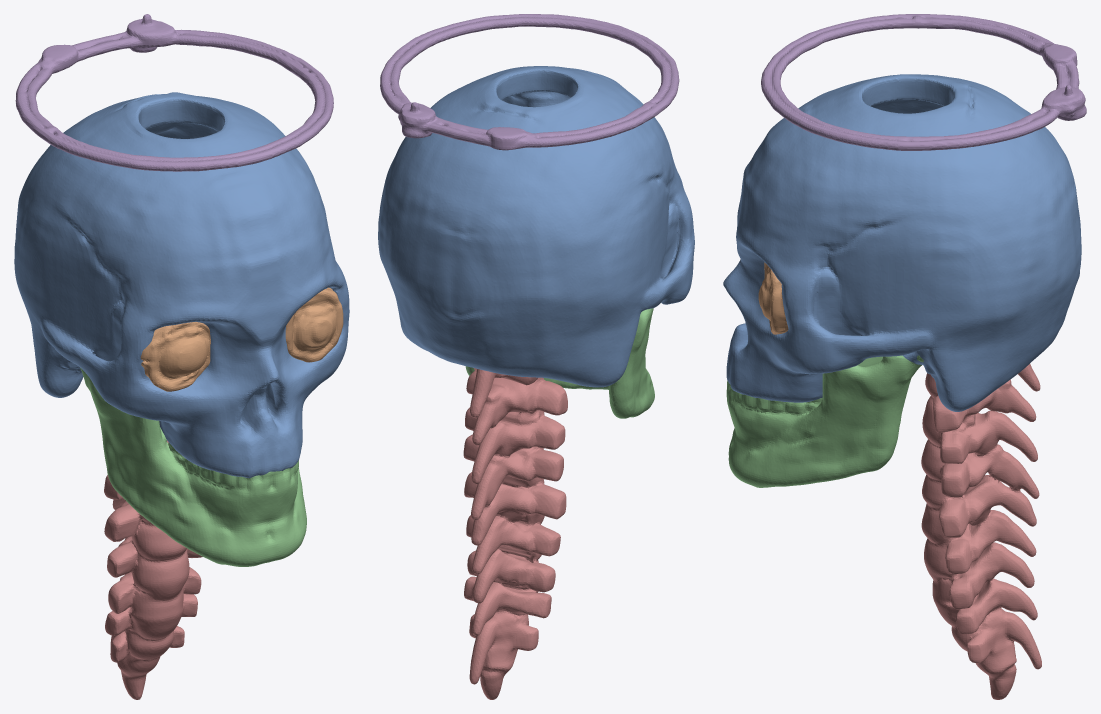
Rendered from skull_drone_1.glb.
The picture shows the model from 3 angles, left to right: view 1: azimuth 30°, elevation 25°; view 2: azimuth 150°, elevation 25°; view 3: azimuth 270°, elevation 25°; orthographic projection. The views are drawn at different scales.
Visible parts, largest first — view 1: Bone_Cranium, Anti-Grav_Jaw, Sensor_Halo, Vertebrae_Tail, Camera_Eye_Sockets; view 2: Bone_Cranium, Vertebrae_Tail, Sensor_Halo, Anti-Grav_Jaw; view 3: Bone_Cranium, Vertebrae_Tail, Anti-Grav_Jaw, Sensor_Halo, Camera_Eye_Sockets.
Boxes of the visible parts, bbox=[...] form: Bone_Cranium: bbox=[14, 92, 349, 478]; Anti-Grav_Jaw: bbox=[80, 367, 306, 566]; Sensor_Halo: bbox=[15, 14, 333, 171]; Vertebrae_Tail: bbox=[104, 440, 202, 699]; Camera_Eye_Sockets: bbox=[140, 287, 343, 391]; Bone_Cranium: bbox=[378, 66, 694, 387]; Vertebrae_Tail: bbox=[463, 368, 567, 699]; Sensor_Halo: bbox=[380, 14, 679, 150]; Anti-Grav_Jaw: bbox=[465, 308, 654, 418]; Bone_Cranium: bbox=[723, 74, 1081, 411]; Vertebrae_Tail: bbox=[921, 364, 1041, 699]; Anti-Grav_Jaw: bbox=[726, 355, 923, 487]; Sensor_Halo: bbox=[761, 14, 1086, 150]; Camera_Eye_Sockets: bbox=[758, 262, 788, 334].
Size of the model in its own units: 0.8478 by 1.92 by 0.9934.
